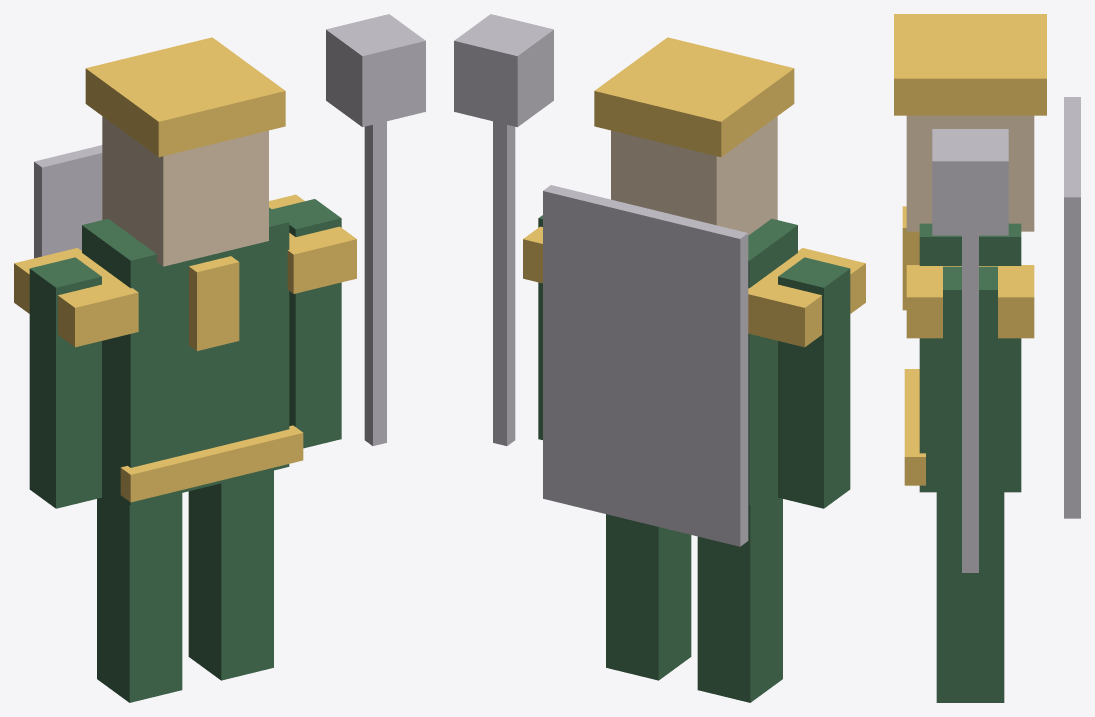
The model's file is 02_maelis_brightlock_responder_under.glb.
3 views of the same model, side by side, from view 1: azimuth 30°, elevation 25°; view 2: azimuth 150°, elevation 25°; view 3: azimuth 270°, elevation 25° (orthographic). The views are drawn at different scales.
Parts seen in each view (by area): view 1: Maelis Brightlock, Responder under; view 2: Maelis Brightlock, Responder under; view 3: Maelis Brightlock, Responder under.
Part boxes in pixels (<box>): Maelis Brightlock, Responder under: <box>14,14,425,702</box>; Maelis Brightlock, Responder under: <box>454,14,865,702</box>; Maelis Brightlock, Responder under: <box>894,14,1080,702</box>.
Size of the model in its own units: 1.07 by 1.67 by 0.4567.
